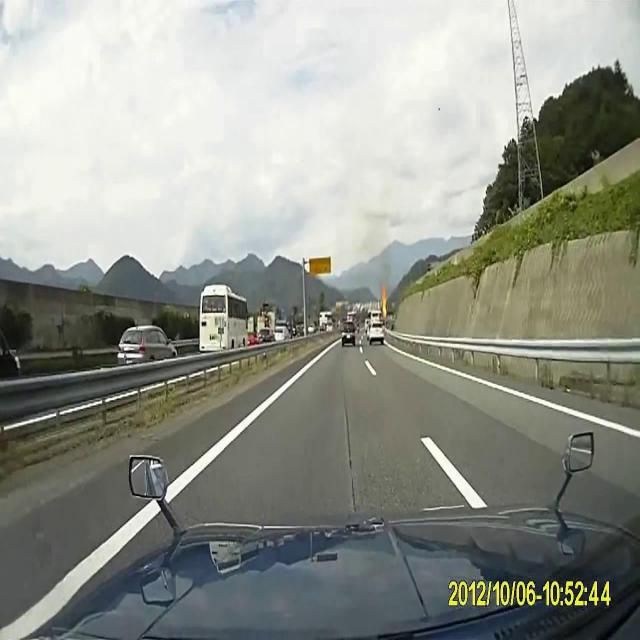Fire: (382, 286, 388, 319)
